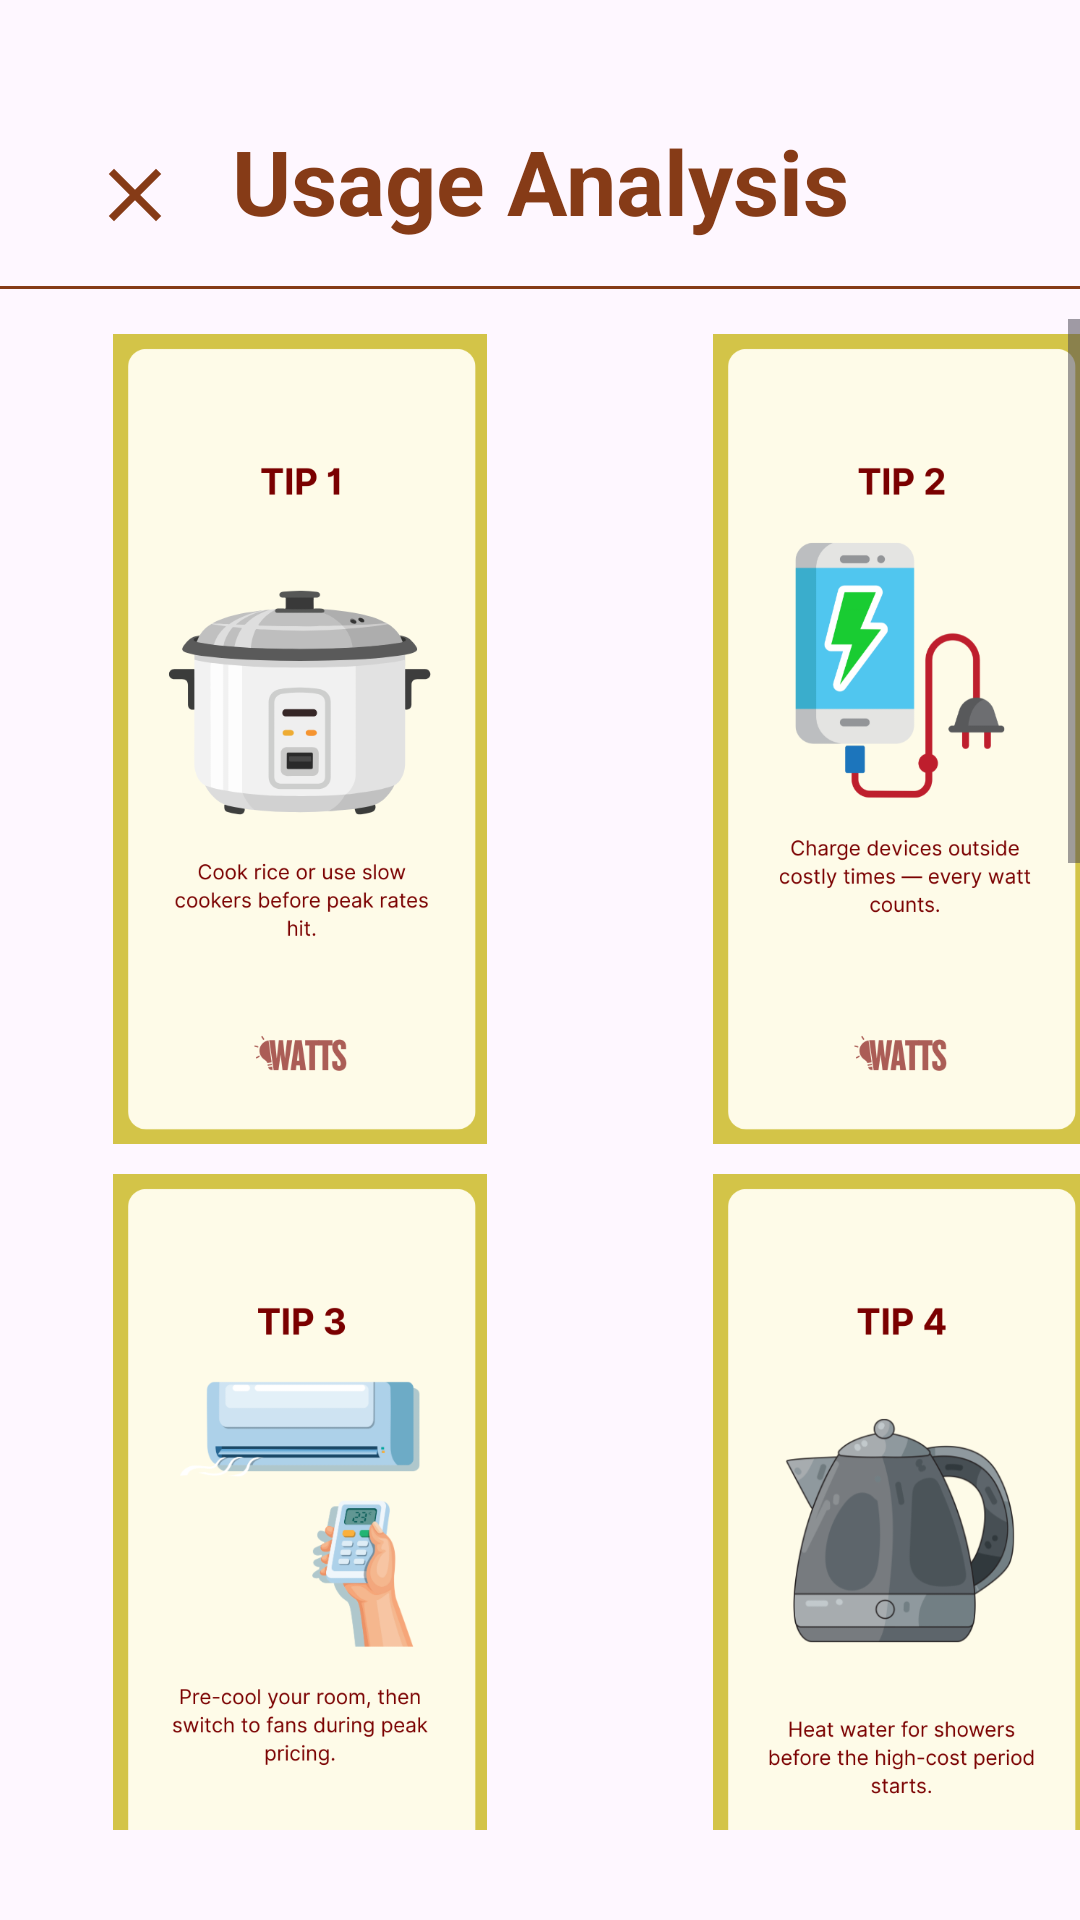

Locate icon controls on the screen. Image size 1080 x 1920, boxes as (x1, y1, x2, y2).
close: (109, 169, 161, 221)
